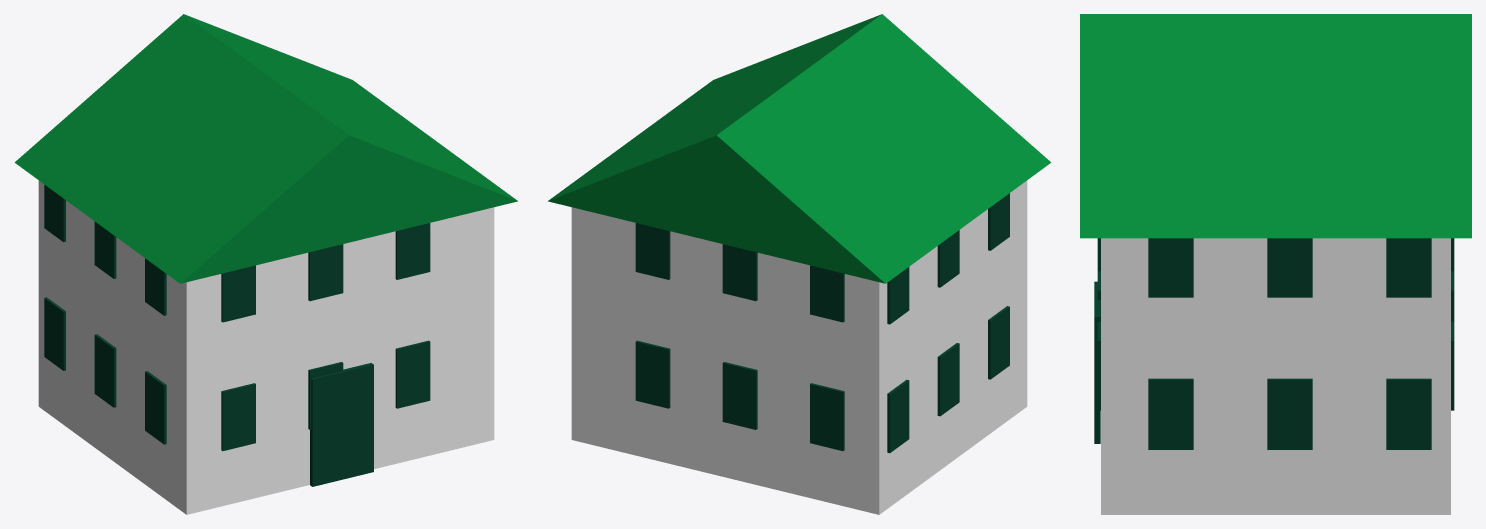
File: small_building.glb
3 renders of one model, left to right at view 1: azimuth 30°, elevation 25°; view 2: azimuth 150°, elevation 25°; view 3: azimuth 270°, elevation 25°, orthographic. The views are drawn at different scales.
Parts seen in each view (by area): view 1: walls_white, gable-roof_green, window_darkgreen, door_darkgreen; view 2: walls_white, gable-roof_green, window_darkgreen; view 3: gable-roof_green, walls_white, window_darkgreen, door_darkgreen.
Boxes of the visible parts, x1,y1,x2,y2 form: walls_white: (38,180,494,514); gable-roof_green: (15,14,517,283); window_darkgreen: (44,184,430,450); door_darkgreen: (310,363,373,486); walls_white: (571,180,1027,514); gable-roof_green: (548,14,1050,283); window_darkgreen: (635,193,1009,453); gable-roof_green: (1080,14,1471,238); walls_white: (1101,238,1450,514); window_darkgreen: (1097,238,1454,449); door_darkgreen: (1094,281,1100,443).
Size of the model in its own units: 6.6 by 6.5 by 5.6.
